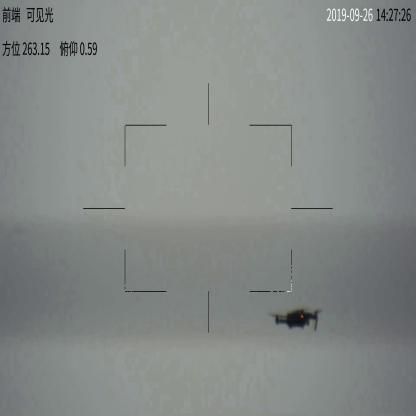uav: (268, 306, 327, 335)
